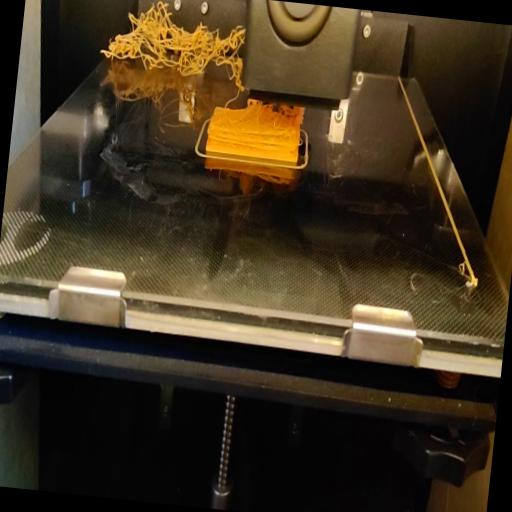spaghetti: (98, 0, 248, 80), (222, 98, 308, 132)
